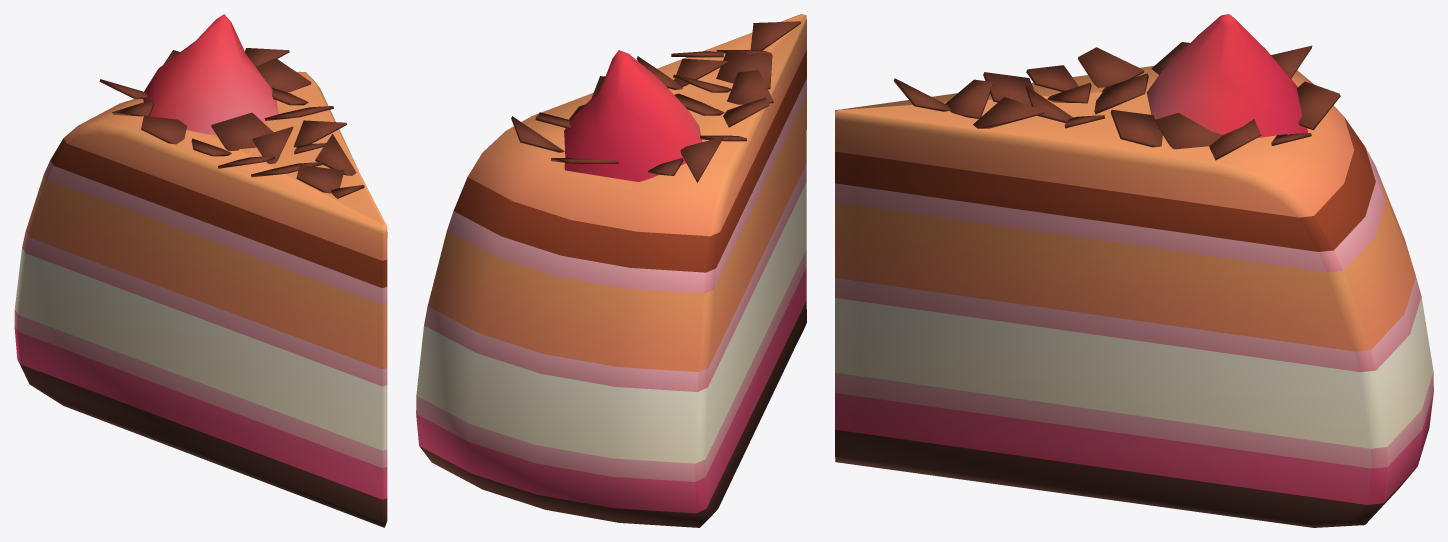
File: cheesecake_001.fbx
The picture shows the model from 3 angles, left to right: view 1: azimuth 30°, elevation 25°; view 2: azimuth 150°, elevation 25°; view 3: azimuth 270°, elevation 25°; orthographic projection. The views are drawn at different scales.
Visible parts, largest first — view 1: cheesecake_001; view 2: cheesecake_001; view 3: cheesecake_001.
Part boxes in pixels (left/top/right/bottom): cheesecake_001: left=14, top=14, right=387, bottom=527; cheesecake_001: left=416, top=14, right=806, bottom=527; cheesecake_001: left=835, top=14, right=1433, bottom=527.
Size of the model in its own units: 8.78 by 14.36 by 11.98.
